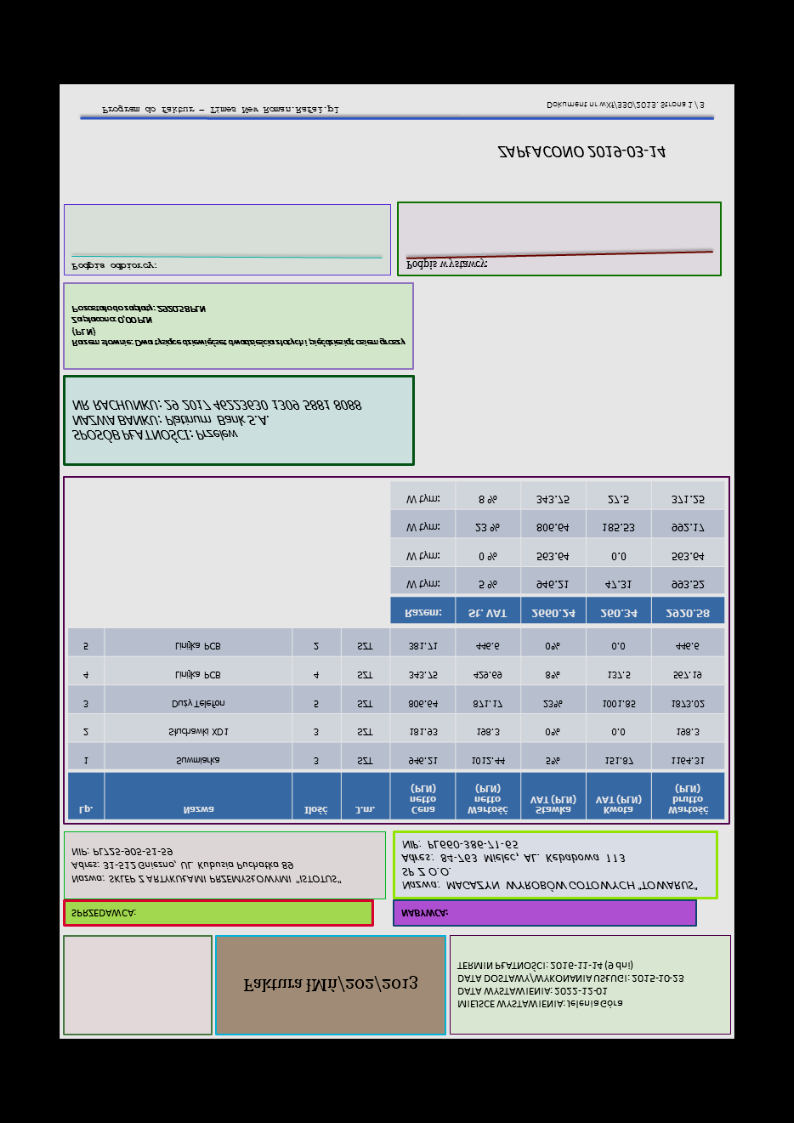Table: (66, 626, 724, 821), (389, 481, 725, 626)
TextBox: (400, 839, 699, 893), (70, 303, 407, 349), (70, 398, 363, 445), (455, 958, 686, 1012), (69, 846, 343, 886), (241, 972, 418, 995), (101, 103, 339, 116), (496, 144, 666, 162), (544, 100, 706, 111), (406, 256, 489, 272), (69, 259, 157, 272), (70, 907, 136, 920), (400, 906, 449, 920)
